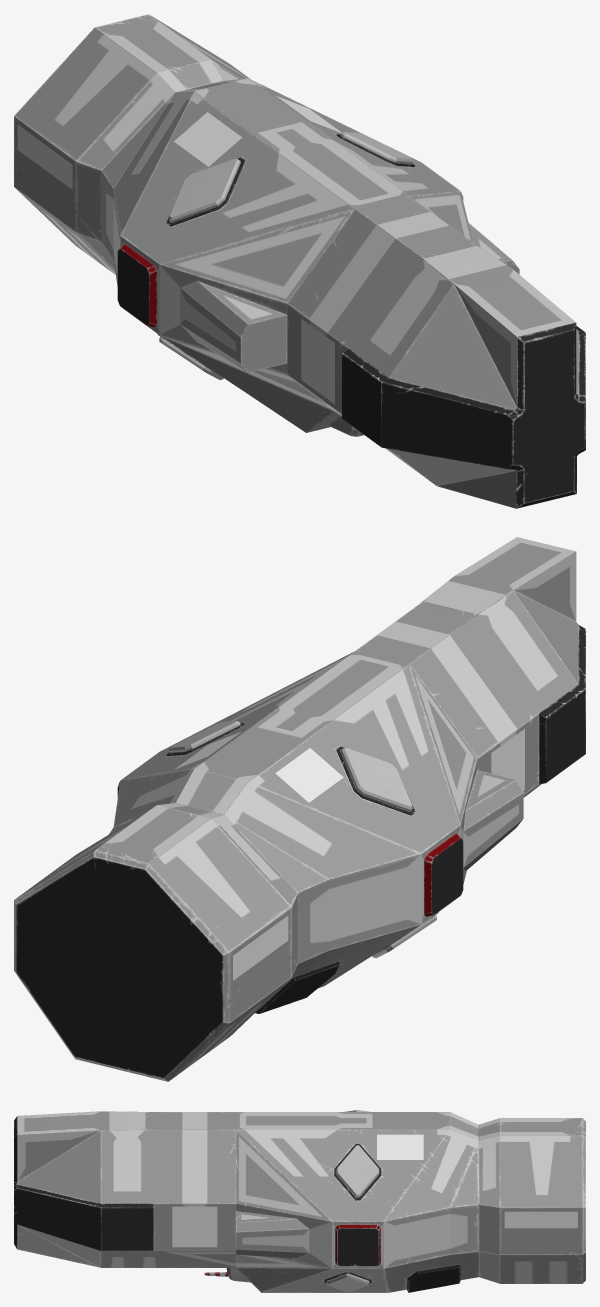
Rendered from CV_Pskella_Nameplates.fbx.
3 views of the same model, one above another, from view 1: azimuth 30°, elevation 25°; view 2: azimuth 150°, elevation 25°; view 3: azimuth 270°, elevation 25° (orthographic). The views are drawn at different scales.
Parts seen in each view (by area): view 1: CV_Hull; view 2: CV_Hull; view 3: CV_Hull.
Part boxes in pixels (x1,y1,x2,y2): CV_Hull: (14,14,585,508); CV_Hull: (14,537,585,1081); CV_Hull: (14,1110,585,1292).
Bounding box in the file's own units: 364 × 863 × 264.
